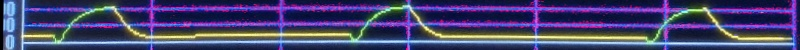leakage: (14, 0, 795, 50)
